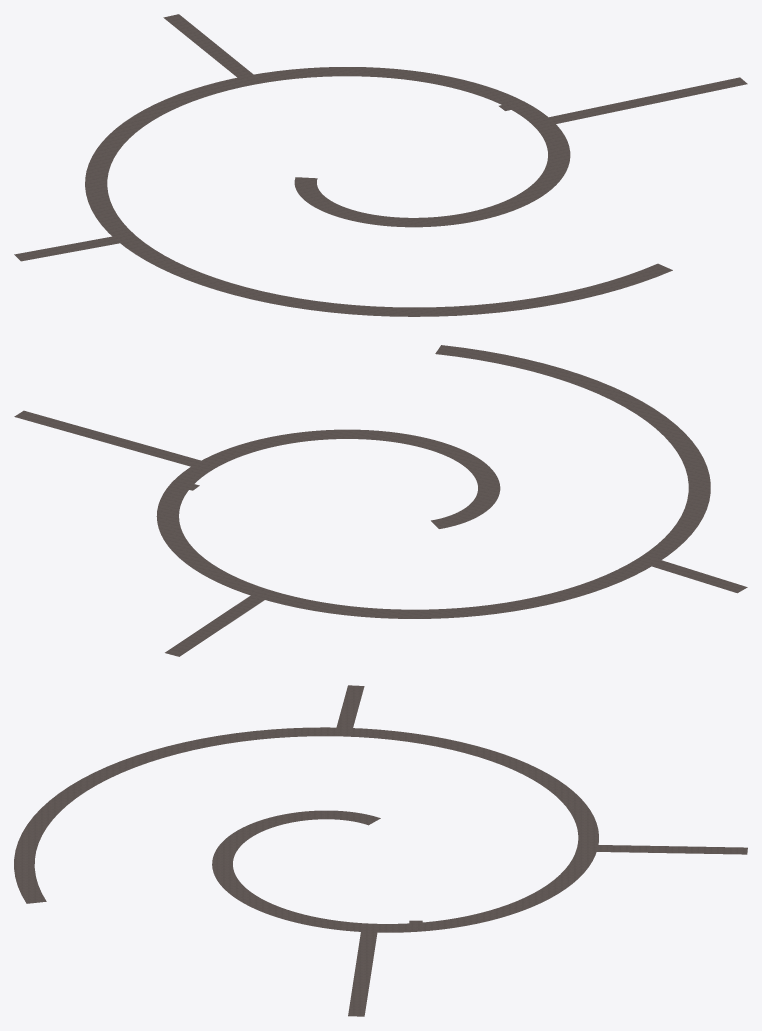
Rendered from SM_Souq_Street.fbx.
The picture shows the model from 3 angles, top to bottom: view 1: azimuth 30°, elevation 25°; view 2: azimuth 150°, elevation 25°; view 3: azimuth 270°, elevation 25°; orthographic projection. The views are drawn at different scales.
Parts seen in each view (by area): view 1: SM_Souq_Street; view 2: SM_Souq_Street; view 3: SM_Souq_Street.
Boxes of the visible parts, <box> form: SM_Souq_Street: <box>14,14,747,316</box>; SM_Souq_Street: <box>14,345,747,656</box>; SM_Souq_Street: <box>14,685,747,1016</box>.
Bounding box in the file's own units: 24126 × 0.1 × 22581.
Materials: 1 (1 with a texture image).
